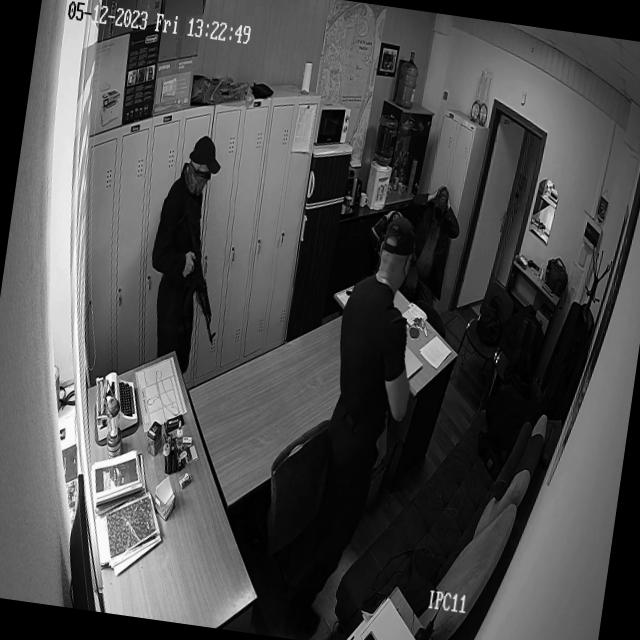gun: (170, 222, 232, 348)
person: (314, 215, 421, 618), (415, 187, 466, 254)
person with a gun: (137, 130, 224, 394)
